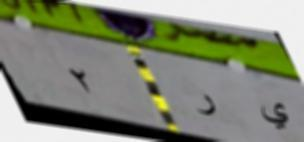2: (68, 63, 92, 98)
raa: (193, 88, 218, 121)
yaa: (258, 98, 295, 132)
